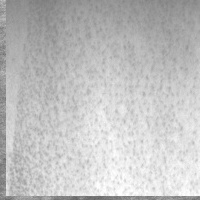pitted_surface: (6, 0, 200, 196)
rolled-in_scale: (32, 40, 93, 172), (105, 65, 167, 99)
